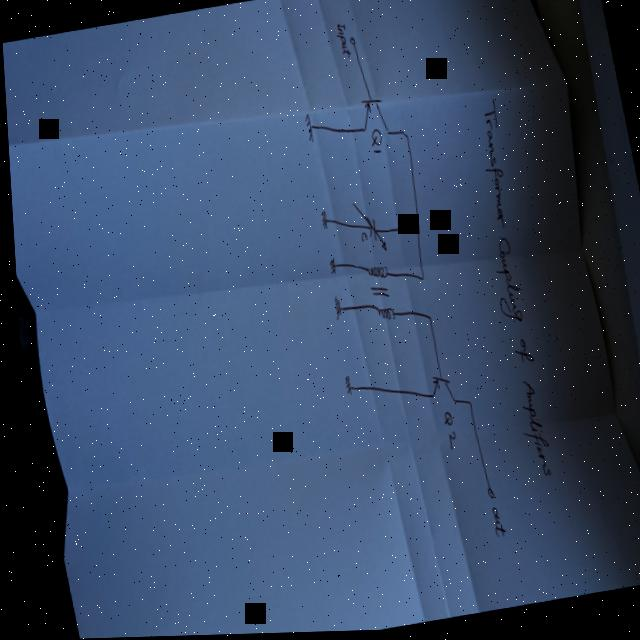capacitor: (349, 199, 385, 257)
ground: (301, 112, 315, 145), (328, 295, 341, 323), (339, 374, 349, 398), (324, 257, 335, 278), (317, 209, 327, 232)
junction: (400, 130, 408, 141), (423, 315, 429, 324), (413, 226, 418, 236), (416, 277, 422, 283), (463, 401, 468, 408)
terminal: (480, 487, 489, 501), (348, 36, 356, 47)
text: (455, 96, 564, 483), (333, 22, 352, 60), (437, 411, 453, 452), (484, 506, 501, 541), (365, 127, 385, 156), (357, 230, 366, 245)
transformer: (363, 265, 393, 324)
transistor: (356, 96, 389, 141), (424, 373, 451, 409)
